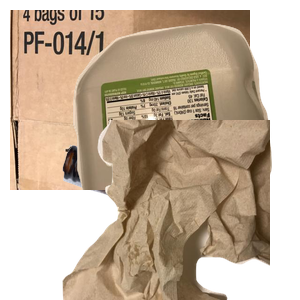cardboard: (10, 10, 250, 190)
glass: (60, 142, 300, 300)
plastic: (71, 21, 300, 201)
trash: (60, 120, 300, 300)
